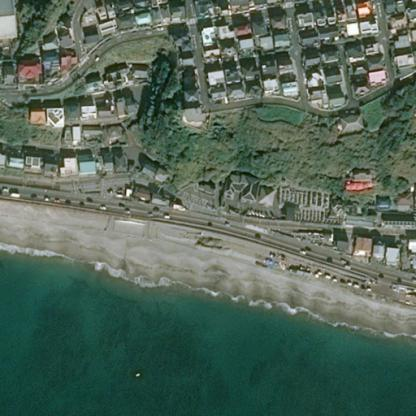ship: (135, 372, 139, 376)
